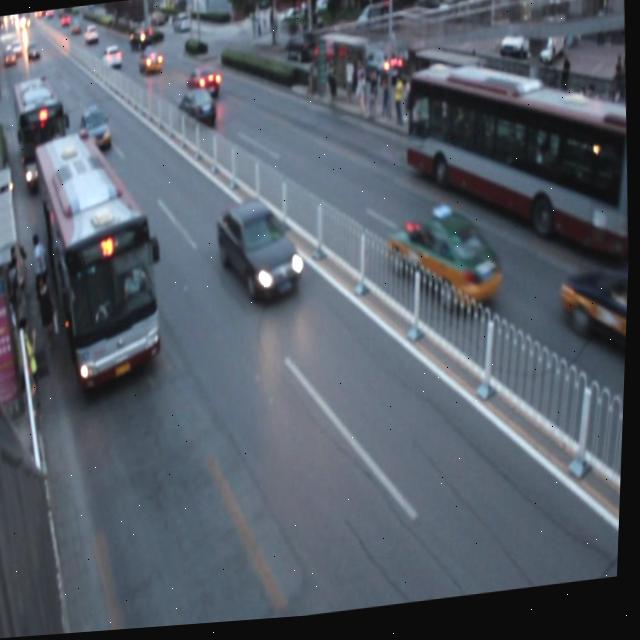car: (384, 210, 505, 328), (215, 201, 304, 307), (555, 268, 631, 376), (172, 90, 218, 135), (77, 107, 115, 157), (185, 65, 224, 106), (139, 47, 169, 82)
van: (397, 48, 637, 298), (27, 128, 169, 391), (12, 77, 72, 192)
